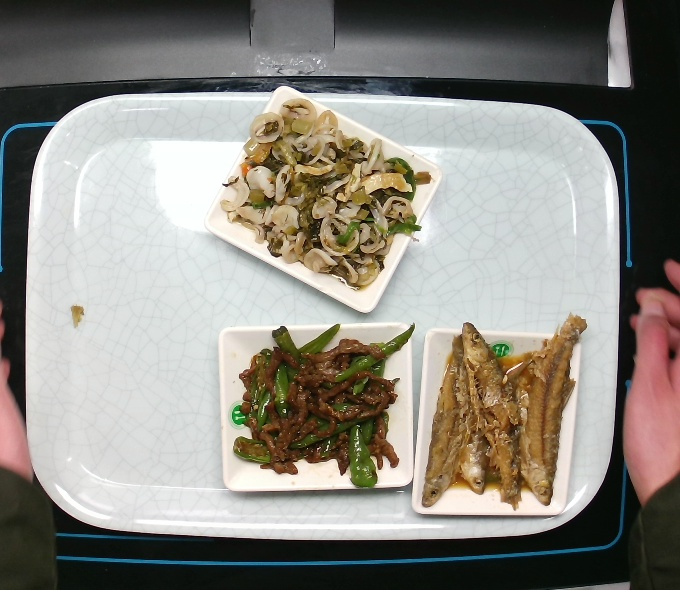wcq-QingJiaoNiuRou: (221, 315, 416, 494)
wcq-XiaoXiYu: (213, 91, 432, 289), (414, 298, 593, 522)
